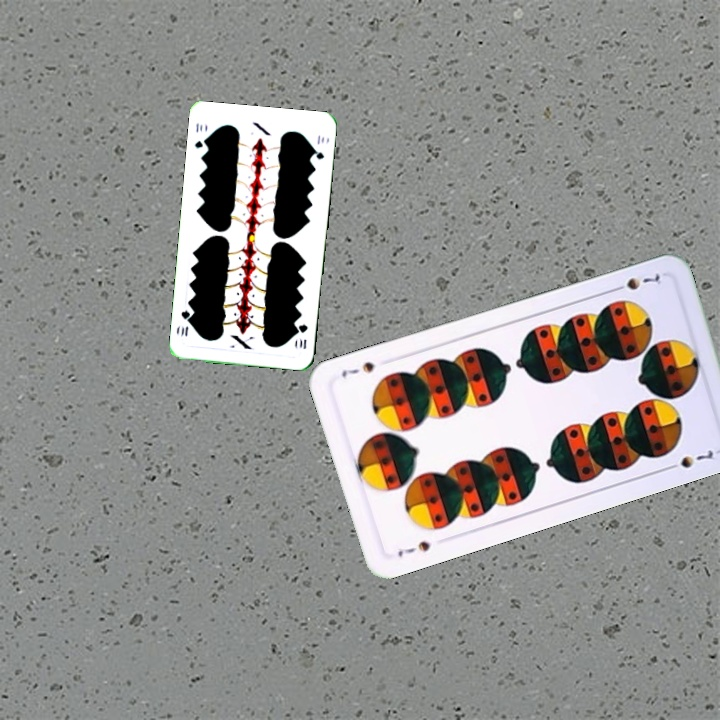G10: (191, 119, 210, 151), (294, 320, 310, 351)
S7: (608, 270, 663, 294), (393, 537, 433, 560)
